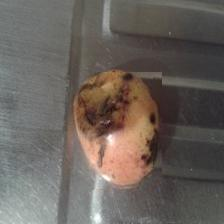Mango Rotten: (70, 72, 162, 191)
